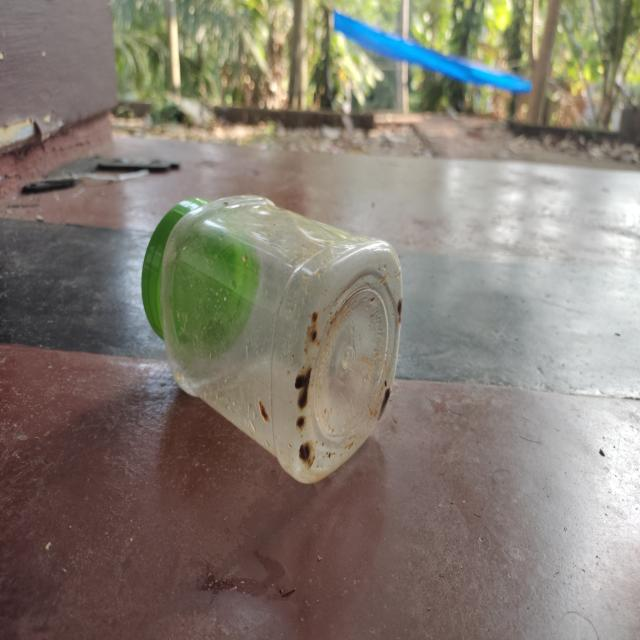plastic: (138, 189, 404, 489)
